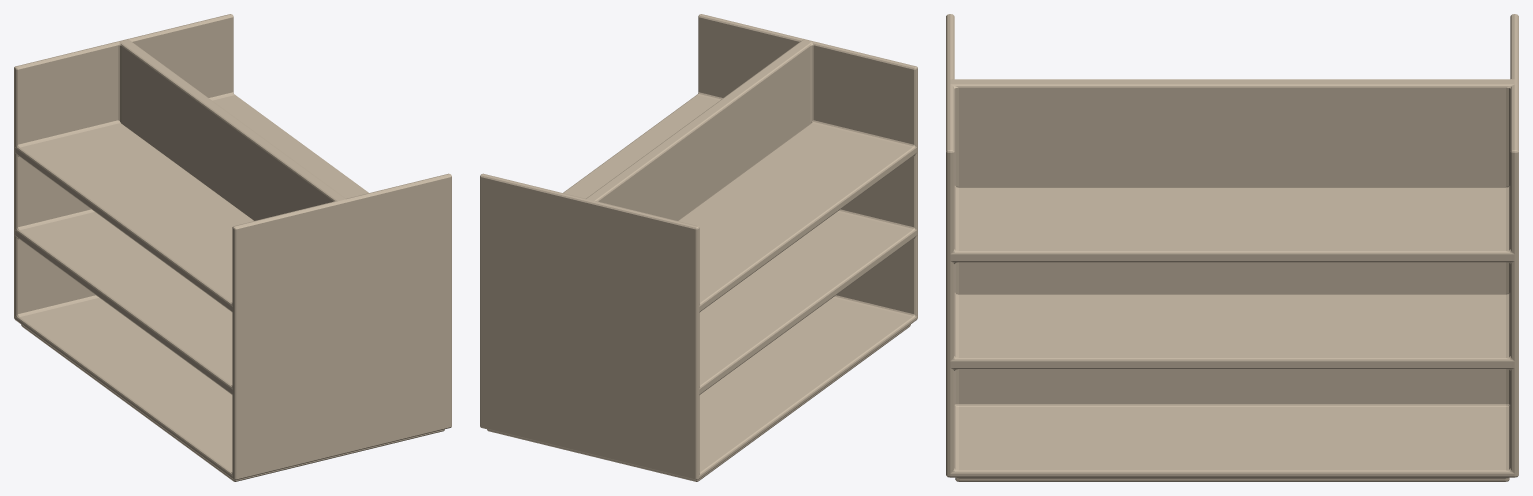
File: Shelf04.fbx
3 views of the same model, side by side, from view 1: azimuth 30°, elevation 25°; view 2: azimuth 150°, elevation 25°; view 3: azimuth 270°, elevation 25° (orthographic). The views are drawn at different scales.
Visible parts, largest first — view 1: Regal1_doppelseitig; view 2: Regal1_doppelseitig; view 3: Regal1_doppelseitig.
Boxes of the visible parts, bbox=[...] form: Regal1_doppelseitig: bbox=[14, 14, 451, 481]; Regal1_doppelseitig: bbox=[480, 14, 917, 481]; Regal1_doppelseitig: bbox=[946, 14, 1518, 481].
Size of the model in its own units: 537 by 608 by 944.
